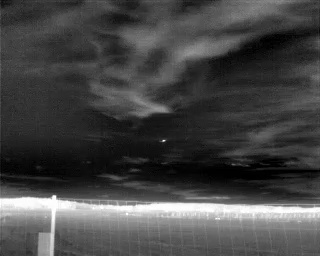AIRPLANE: (160, 137, 167, 144)
